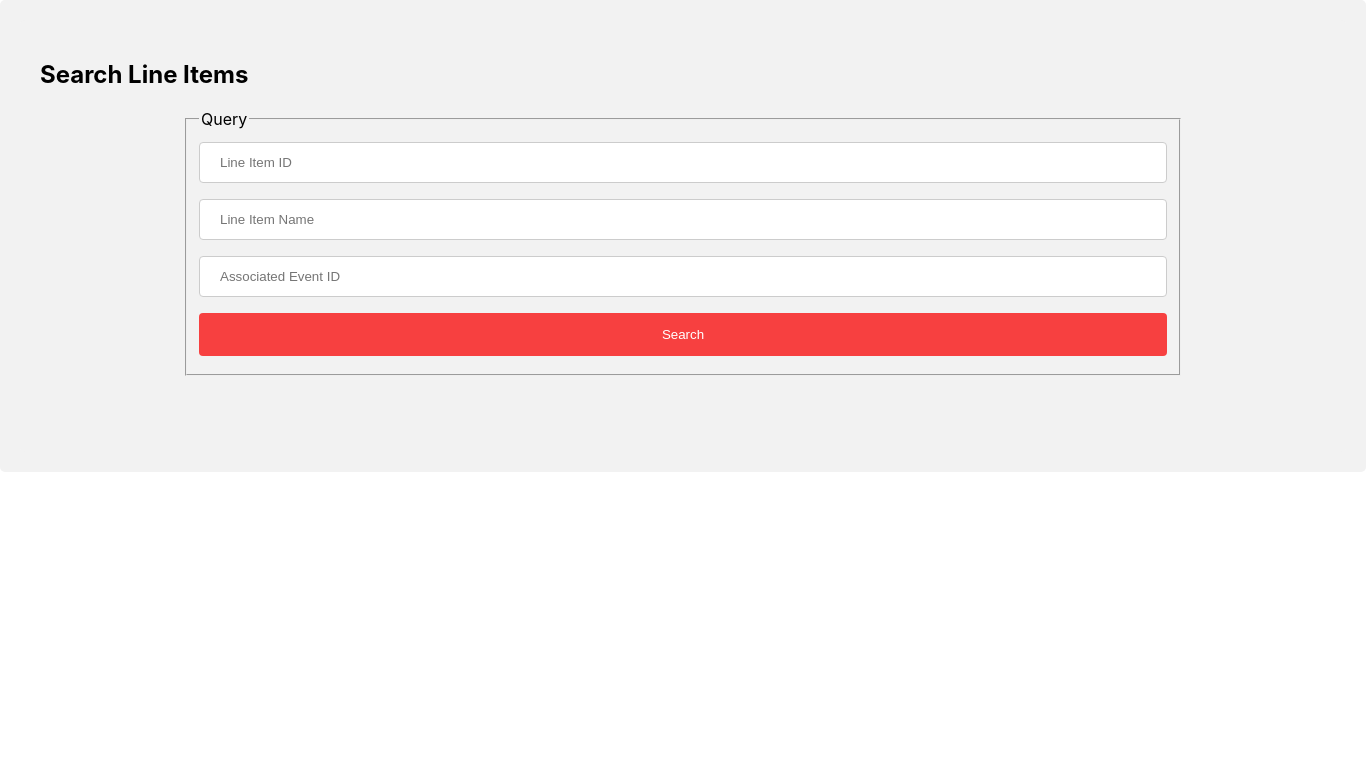
Test case: successfully finds line item by id
This screenshot has width=1366, height=768.
Type "1" into the field with placeholder "Line Item ID" at (683, 163), box [199,142,1167,183]
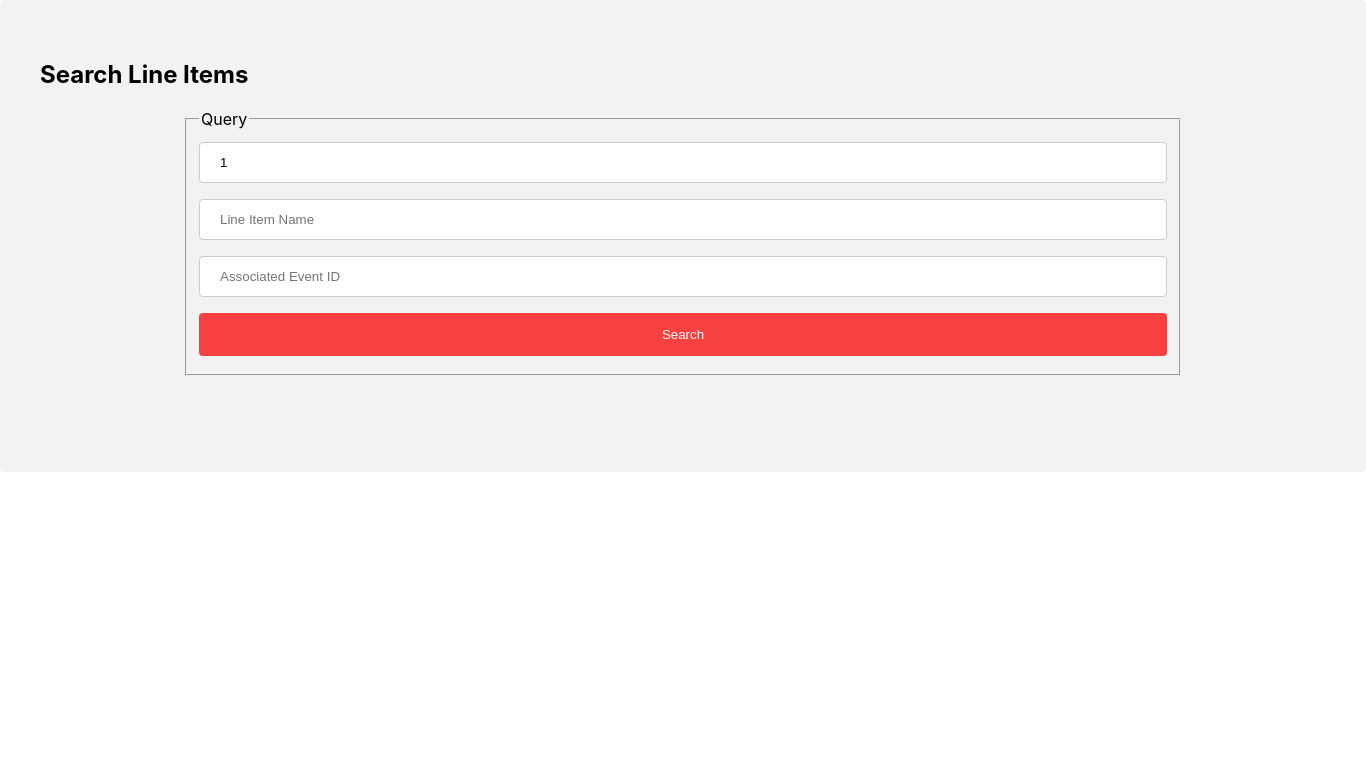
Click the button at (683, 335), box [199,313,1167,356]
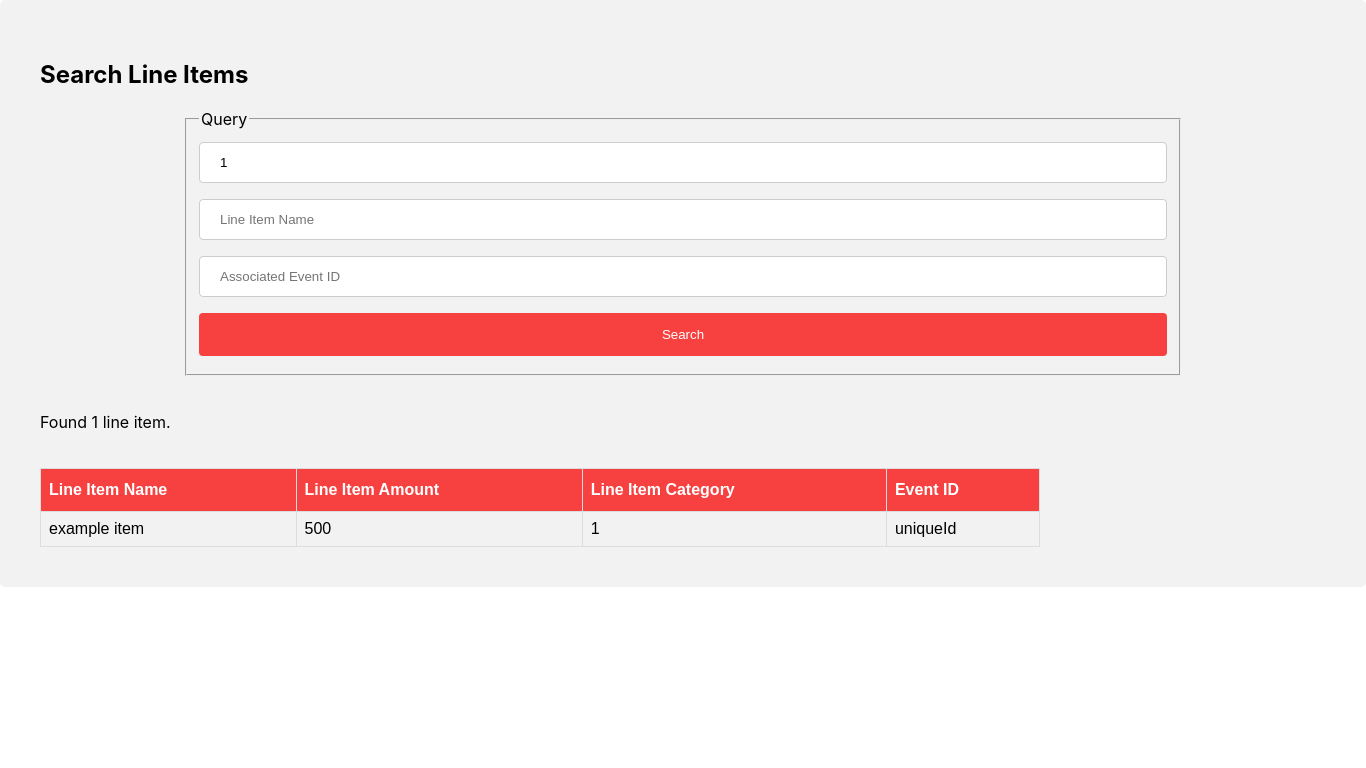
Check: the number of cells is 4, box [40,512,296,547]; [296,512,582,547]; [582,512,886,547]; [886,512,1040,547]
Check: the number of rows is 2, box [40,469,1040,512]; [40,512,1040,547]
Check: the cell "example item" is shown, box [40,512,296,547]
